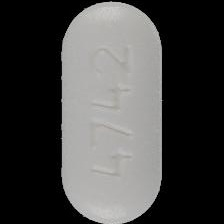53808-0976: (0, 0, 224, 224)
